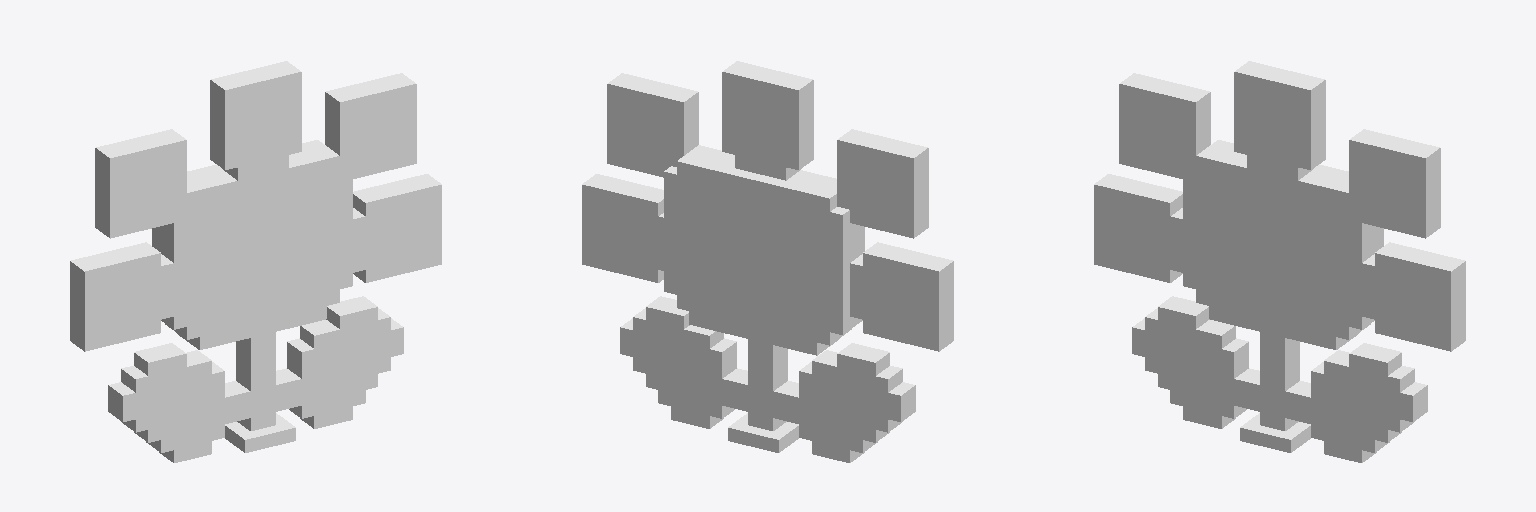
Rendered from ohanasann.obj.
3 renders of one model, left to right at view 1: azimuth 30°, elevation 25°; view 2: azimuth 150°, elevation 25°; view 3: azimuth 330°, elevation 25°, orthographic.
Visible parts, largest first — view 1: model_ohanasann.obj; view 2: model_ohanasann.obj; view 3: model_ohanasann.obj.
Boxes of the visible parts, x1=… form: model_ohanasann.obj: x1=70, y1=61, x2=441, y2=462; model_ohanasann.obj: x1=582, y1=61, x2=953, y2=462; model_ohanasann.obj: x1=1094, y1=61, x2=1465, y2=462.
Bounding box in the file's own units: 28 × 27 × 4.